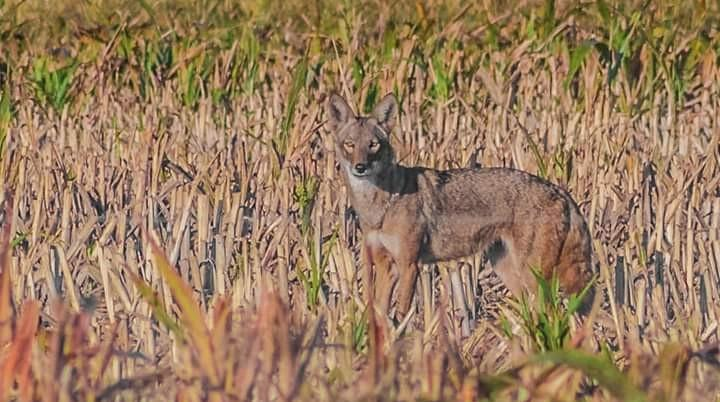Coyote: (325, 89, 596, 333)
